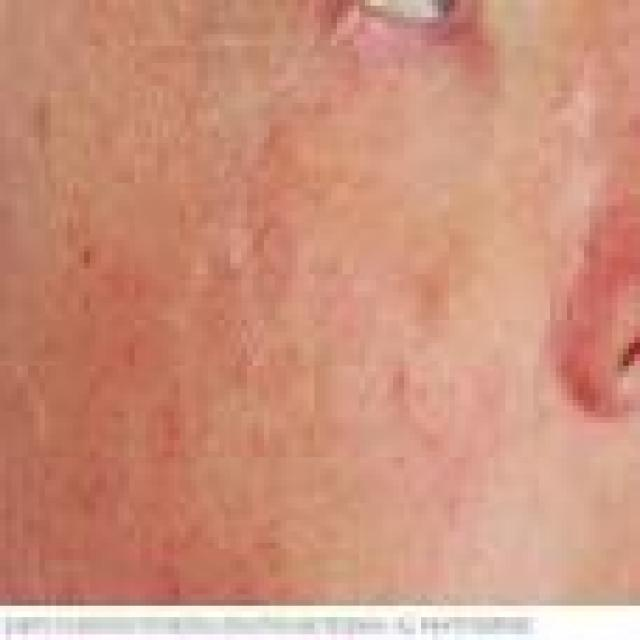Melasma: (18, 207, 513, 608)
